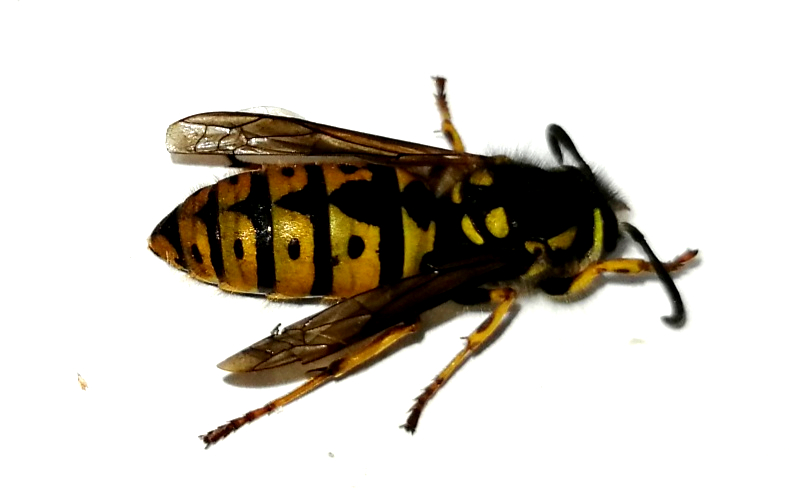chax: (141, 69, 716, 452)
